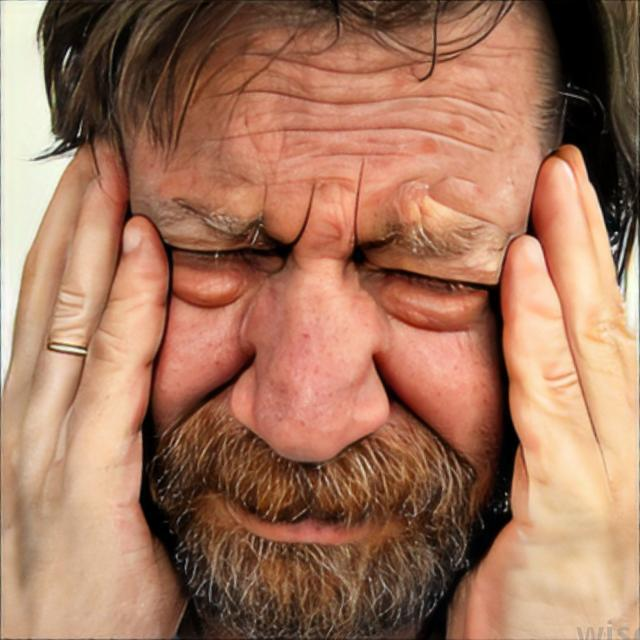sad: (138, 35, 540, 605)
